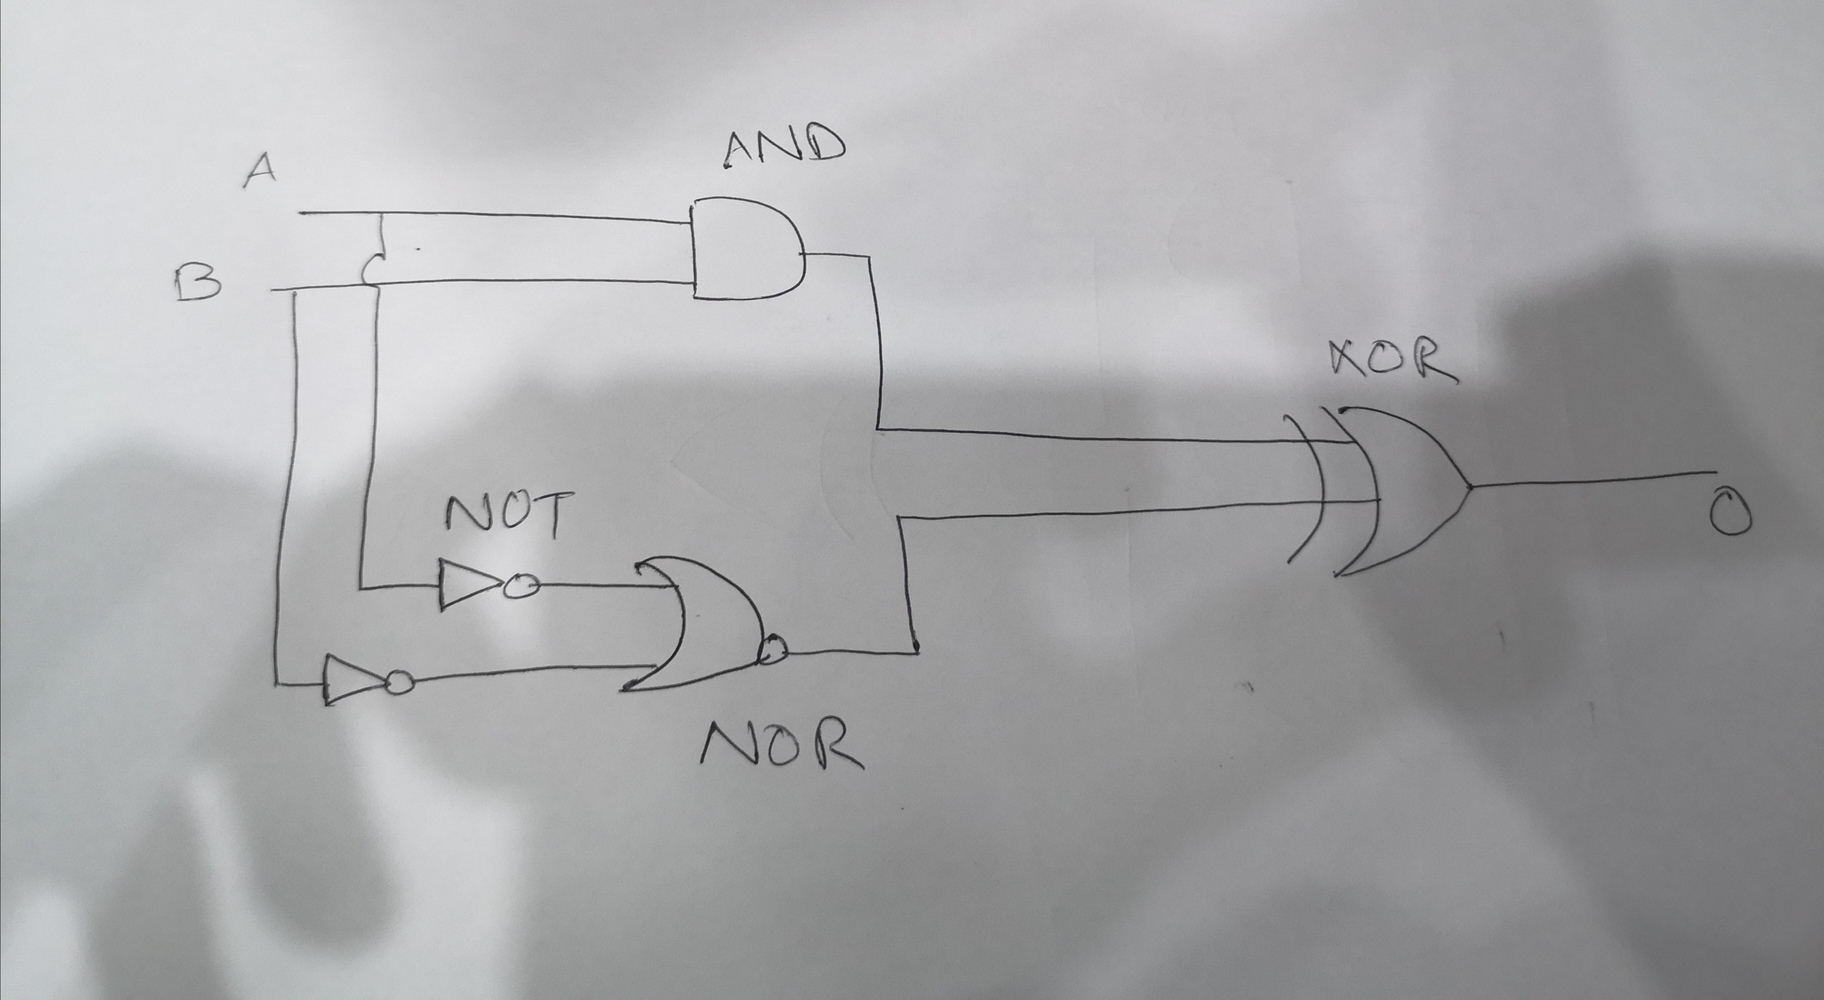and: (682, 188, 814, 312)
crossover: (354, 246, 393, 293)
junction: (896, 632, 930, 669), (857, 244, 881, 271), (887, 506, 914, 530), (866, 419, 889, 440), (268, 674, 288, 695), (286, 282, 306, 302), (372, 204, 390, 222), (351, 580, 369, 597)
nor: (614, 544, 801, 702)
not: (431, 550, 546, 622), (318, 645, 422, 716)
terminal: (1703, 462, 1724, 478), (290, 204, 310, 220), (265, 283, 279, 298)
text: (702, 711, 870, 781), (439, 483, 581, 546), (1319, 331, 1466, 385), (719, 119, 853, 171), (1705, 482, 1758, 541), (171, 259, 224, 302), (238, 148, 279, 187)
xor: (1268, 398, 1486, 585)
